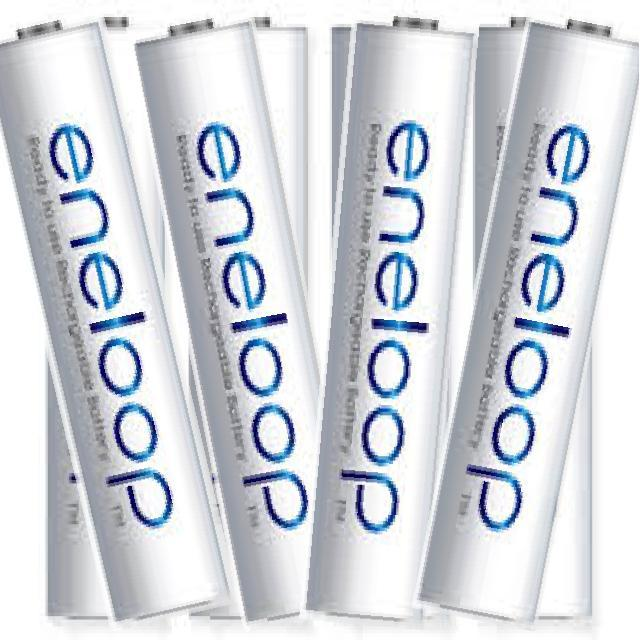Battery: (0, 11, 232, 627), (409, 16, 639, 634), (129, 11, 328, 626), (310, 6, 477, 618), (34, 332, 122, 629), (242, 9, 313, 281), (478, 11, 538, 283)
